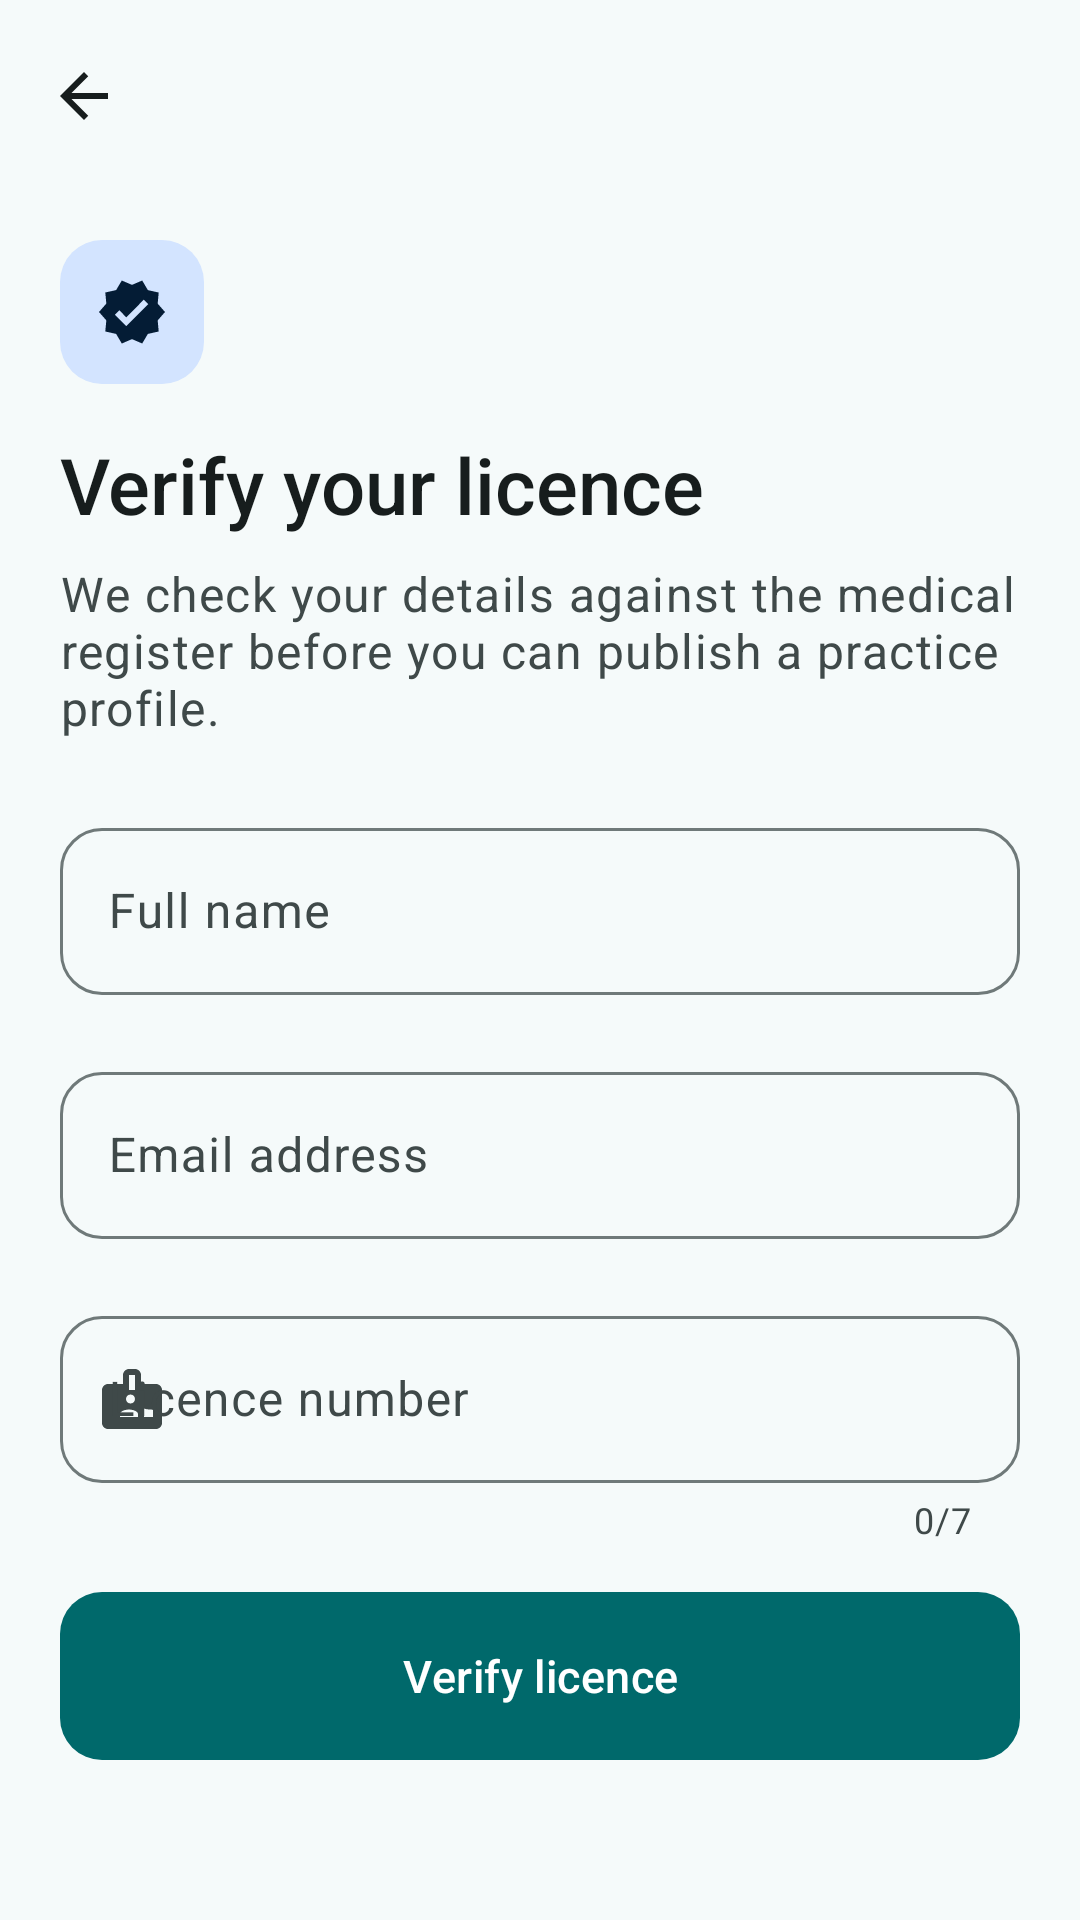

Named icons in this screenshot (1080 x 1920) and their centers, point (x, y):
verified: point (132, 312)
